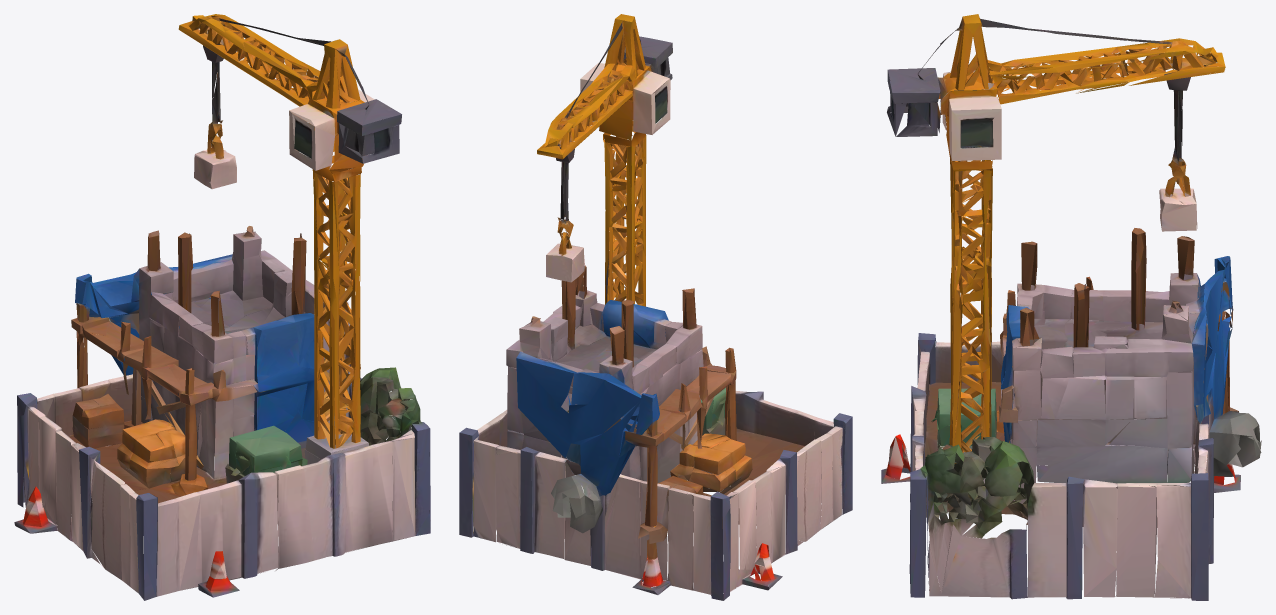
The model's file is m11_05_construction_r90.glb.
3 views of the same model, side by side, from view 1: azimuth 30°, elevation 25°; view 2: azimuth 150°, elevation 25°; view 3: azimuth 270°, elevation 25° (orthographic). The views are drawn at different scales.
Visible parts, largest first — view 1: construction; view 2: construction; view 3: construction.
Part boxes in pixels (box(x1,y1,x2,y2)): construction: box(14, 14, 430, 600); construction: box(459, 14, 852, 600); construction: box(881, 14, 1261, 600).
Size of the model in its own units: 9.53 by 14.02 by 8.85.
1 material, 1 textured.
